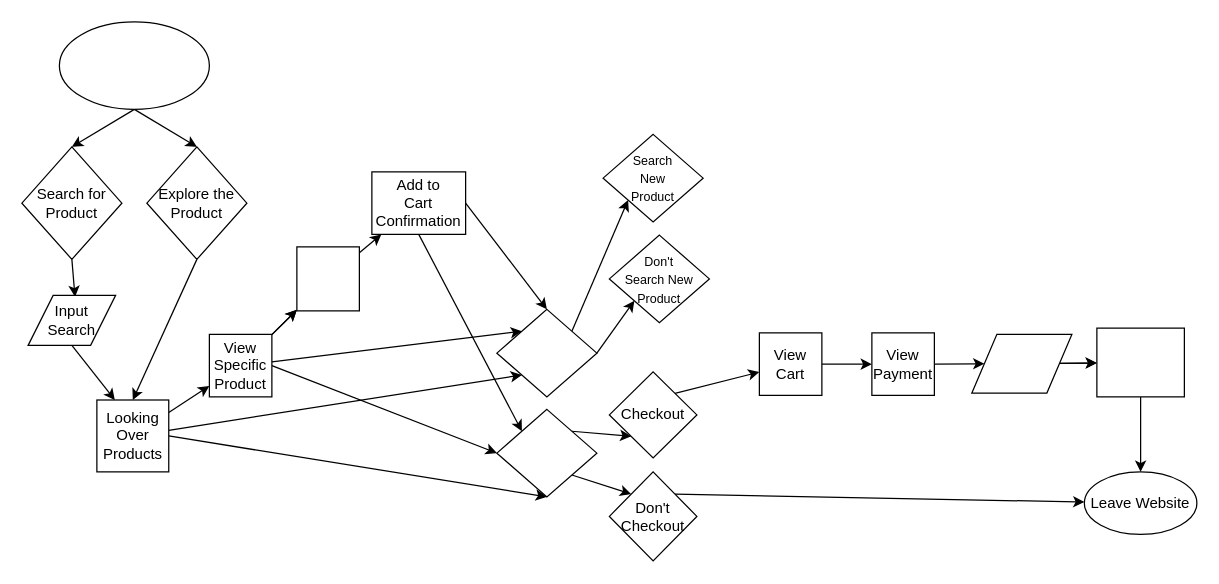
Some shapes in this 1219 by 584 pixel diagram are drawn without their labels. Each missing label, with the box of its shape:
Add to Cart: (296, 246, 359, 311)
Continue Shopping: (496, 308, 597, 397)
Don't Continue Shopping: (496, 408, 597, 497)
Enter Website: (58, 21, 209, 109)
Input Payment Info: (971, 333, 1072, 393)
Order Confirmation and Email: (1096, 327, 1184, 397)
